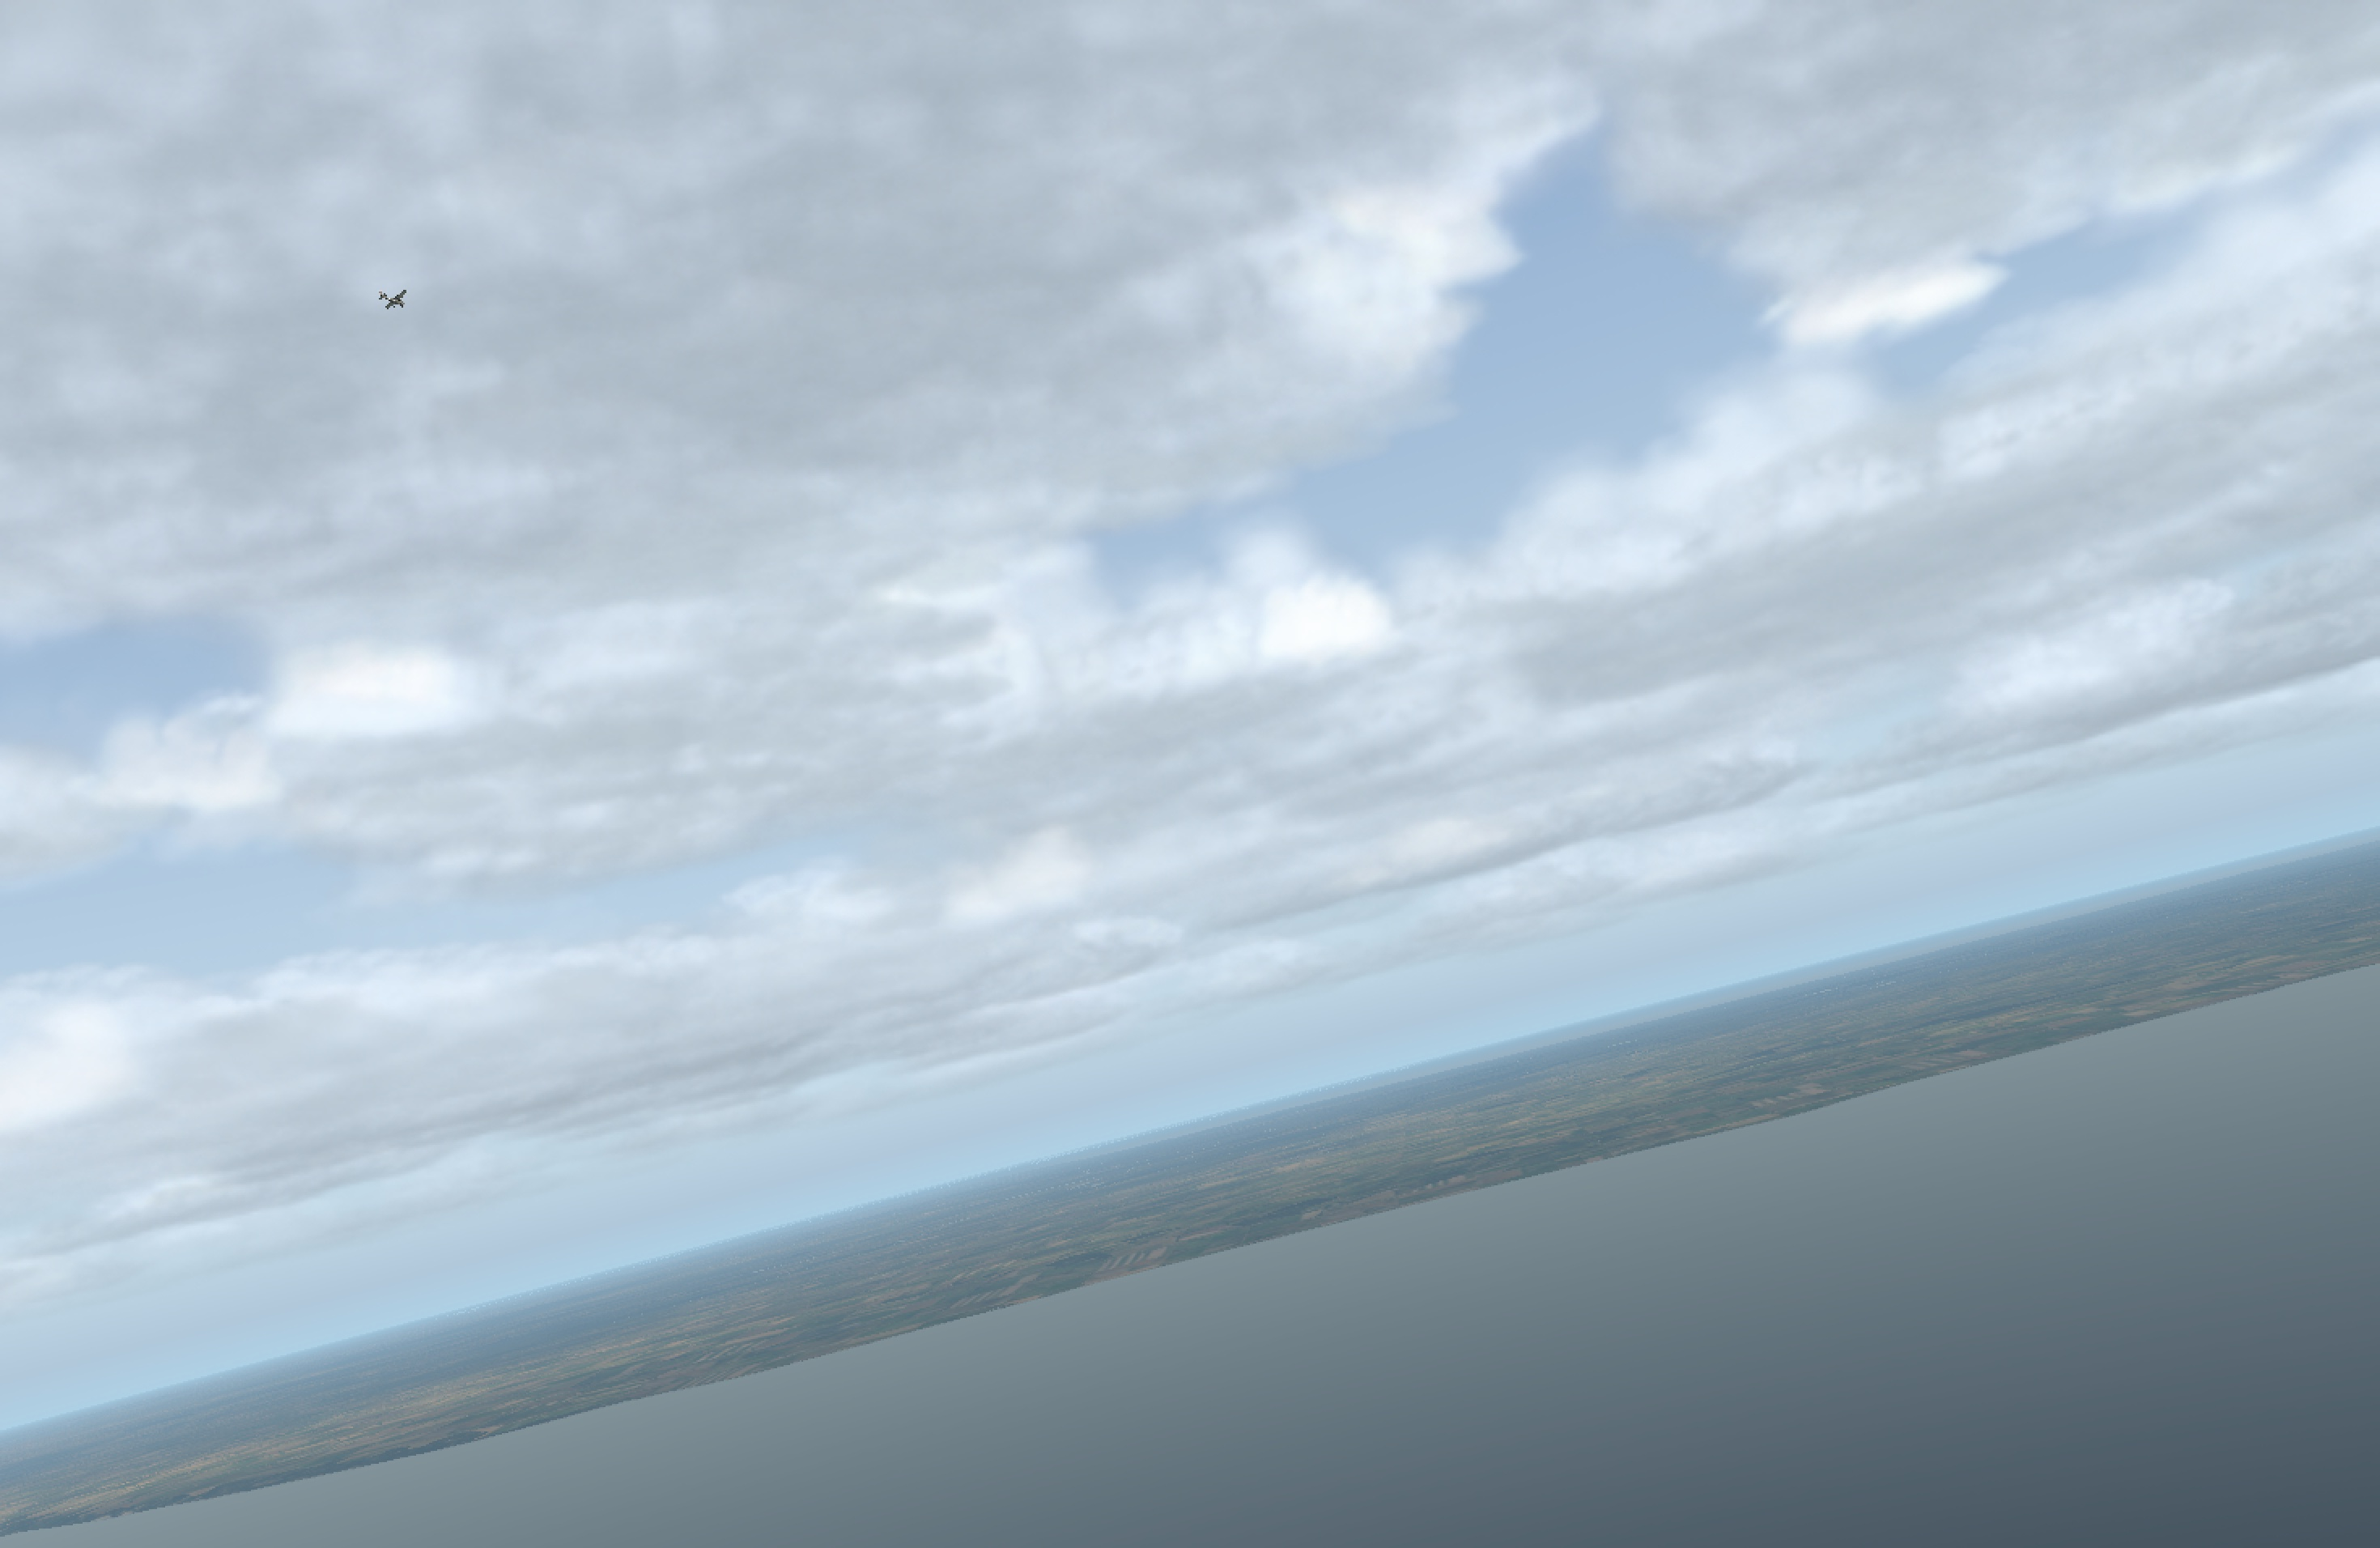aircraft: (385, 297, 409, 305)
